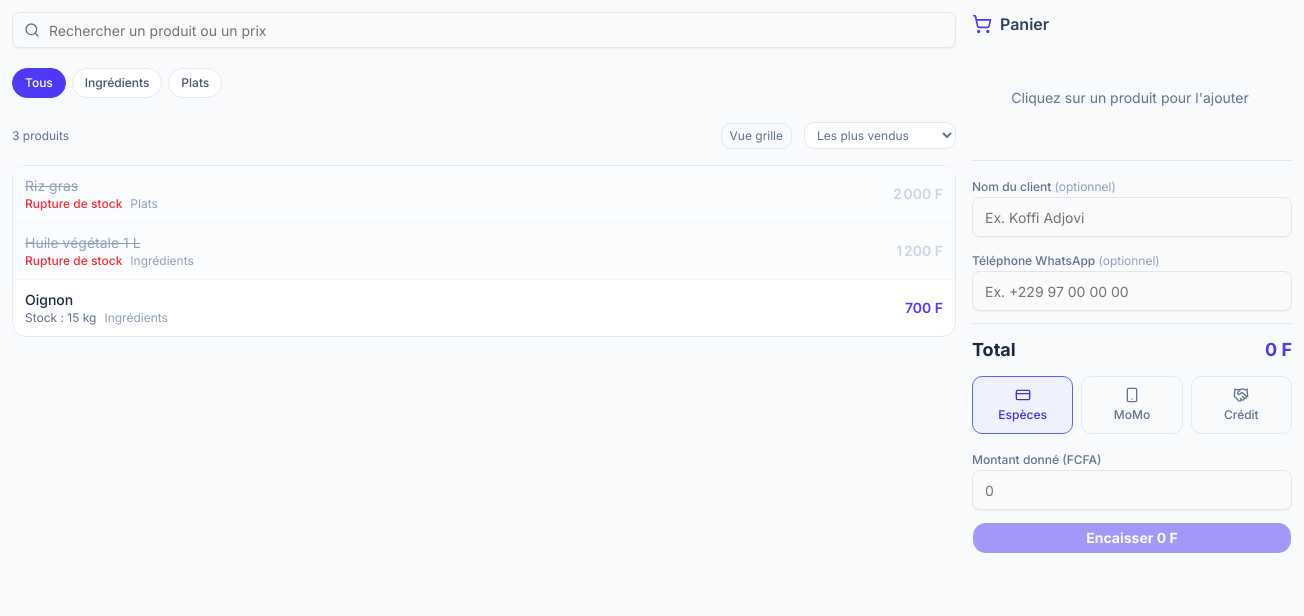
Test: POS — un plat n'a pas de stock › refuse toujours un article SANS recette qui est à zéro
Expected: the 1st text "Rupture de stock" is shown, [25,196,122,212]
Step 1. Click the text "Huile végétale 1 L" → (83, 242), box [25,234,141,251]
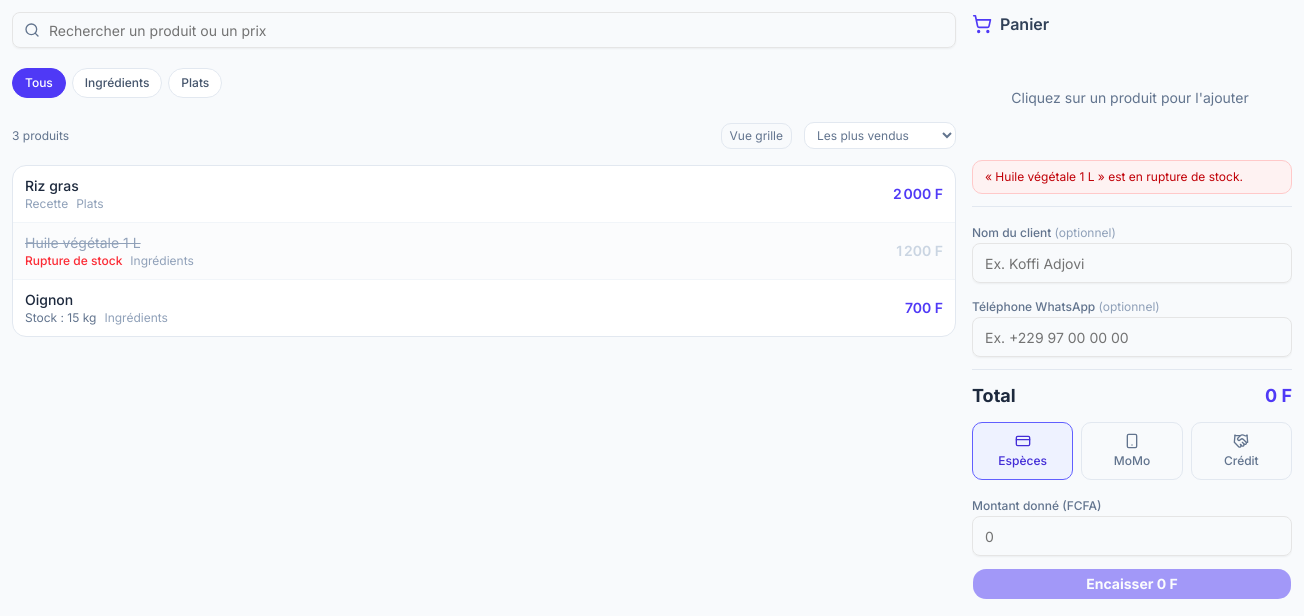
Result: the text "« Huile végétale 1 L » est en rupture de stock." is shown at [972,160,1292,194]
